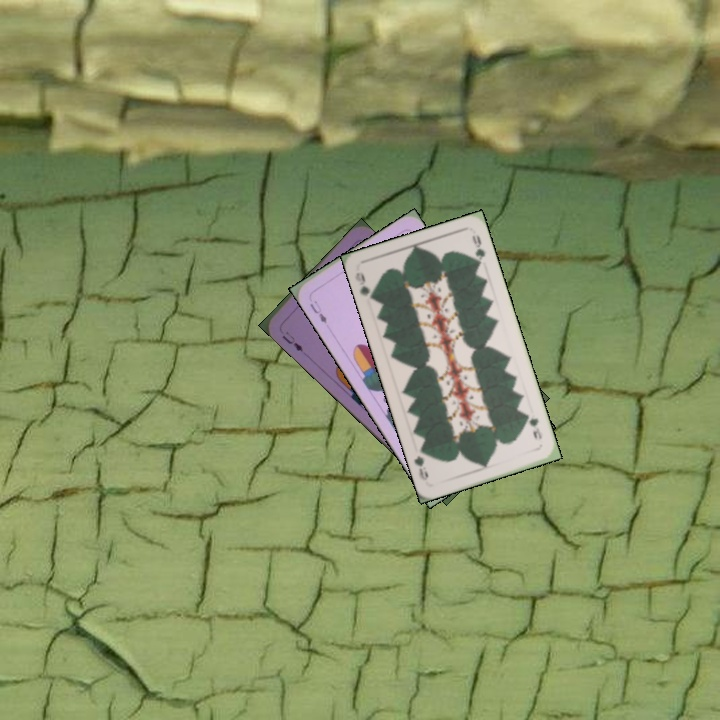EU: (275, 324, 306, 354), (306, 296, 330, 326)
G9: (351, 268, 378, 303), (522, 410, 545, 443)
